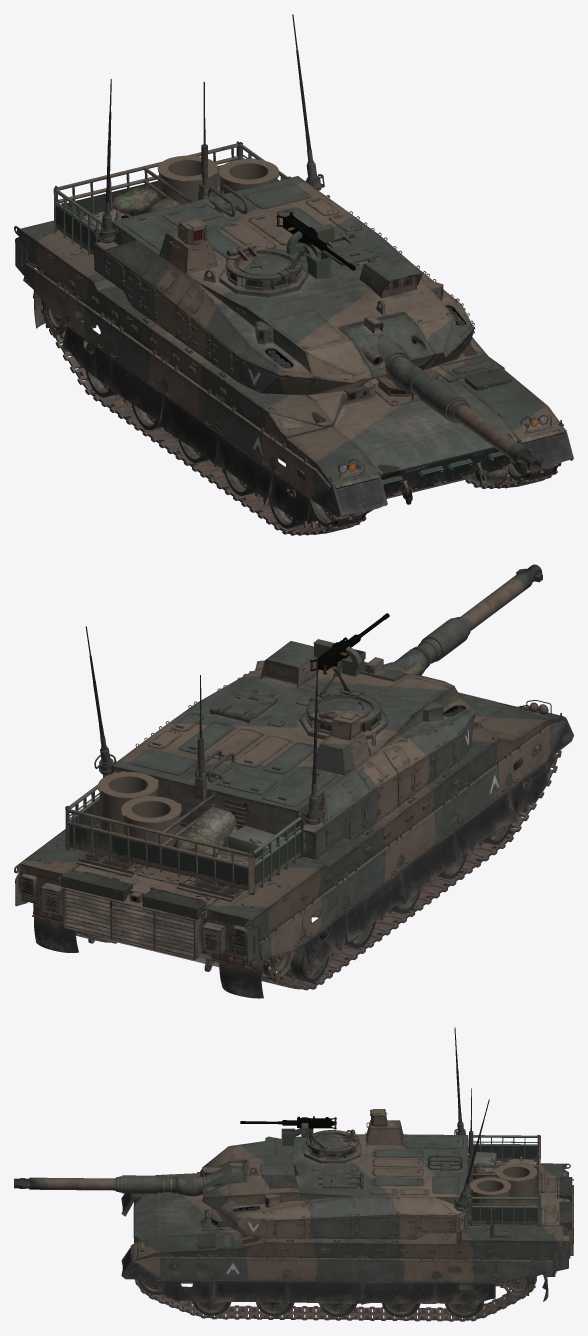
Rendered from type-10_main_battle_tank.glb.
3 views of the same model, one above another, from view 1: azimuth 30°, elevation 25°; view 2: azimuth 150°, elevation 25°; view 3: azimuth 270°, elevation 25° (orthographic). The views are drawn at different scales.
Parts seen in each view (by area): view 1: Object_6, Object_3, Object_5, Object_4, Object_2; view 2: Object_6, Object_3, Object_5, Object_4, Object_2; view 3: Object_3, Object_6, Object_5, Object_4, Object_2.
Boxes of the visible parts, <box> form: Object_6: <box>57,81,542,472</box>; Object_3: <box>14,220,565,528</box>; Object_5: <box>53,14,511,497</box>; Object_4: <box>20,246,573,517</box>; Object_2: <box>41,285,561,535</box>; Object_6: <box>67,564,542,868</box>; Object_3: <box>14,706,565,982</box>; Object_5: <box>61,613,464,919</box>; Object_4: <box>19,692,573,998</box>; Object_2: <box>76,725,561,990</box>; Object_3: <box>133,1163,570,1317</box>; Object_6: <box>14,1088,540,1239</box>; Object_5: <box>197,1027,573,1248</box>; Object_4: <box>121,1171,573,1301</box>; Object_2: <box>134,1256,536,1321</box>.
Size of the model in its own units: 2.98 by 3.63 by 8.29.
Materials: 4 (4 with a texture image).
